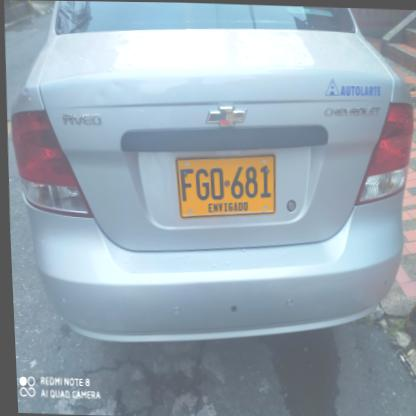placa: (165, 144, 281, 223)
